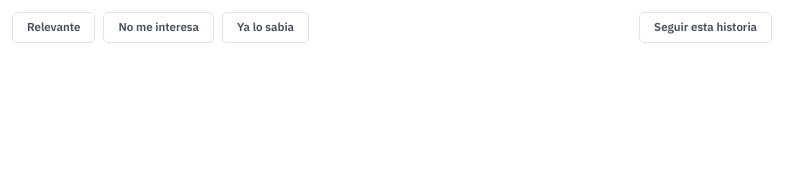
Scenario: StoryFeedback › tracks story_saved when following a story, independently of the reaction
Click the button "Seguir esta historia" at x=706, y=27, box x1=639 y1=12 x2=772 y2=43
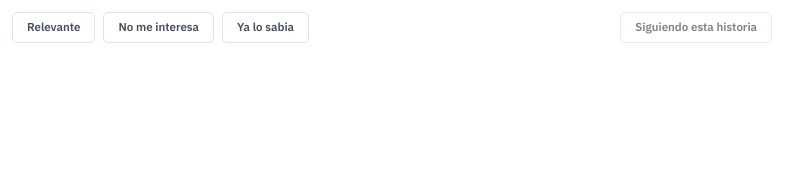
Expected: the button "Relevante" is shown, x1=12 y1=12 x2=95 y2=43
Now the button "Siguiendo esta historia" is disabled, box x1=620 y1=12 x2=772 y2=43
